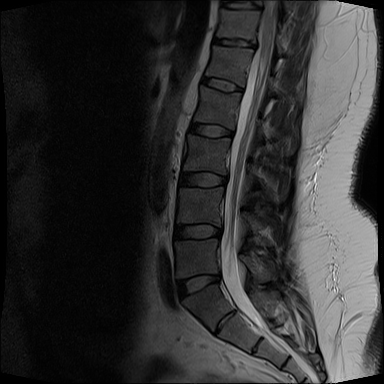Lumbar Disc Bulge (LDB): (174, 268, 224, 305), (175, 169, 232, 189), (169, 223, 225, 243)
Normal IVD: (186, 119, 237, 143), (198, 74, 247, 96)
Spinal Stenosis (SS): (216, 171, 233, 189), (214, 268, 226, 289), (251, 38, 262, 53)
Thoracic Disc Bulge (TDB): (208, 35, 260, 50)
